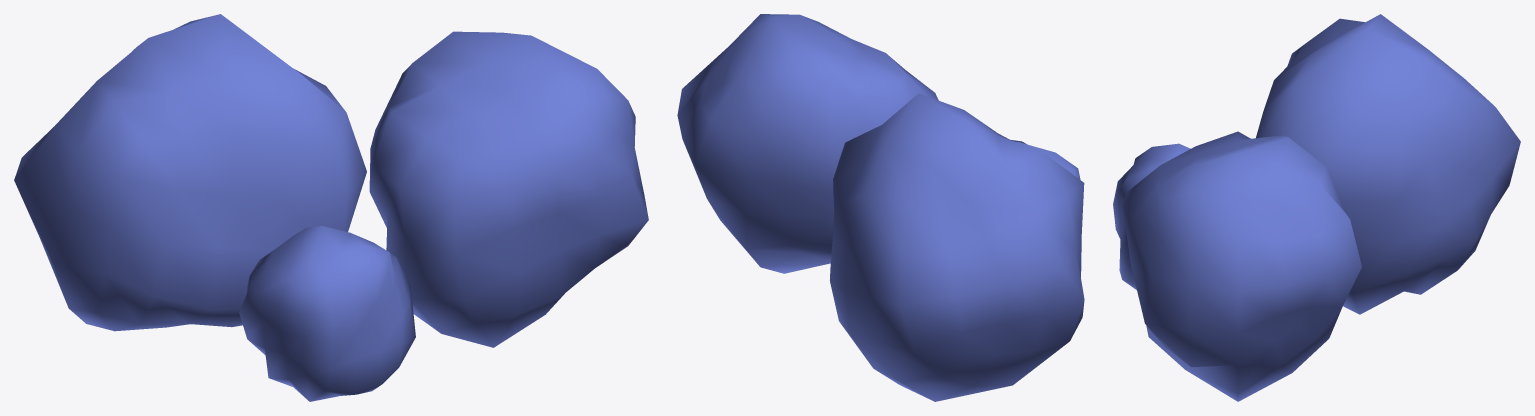
File: Rocks.FBX
3 views of the same model, side by side, from view 1: azimuth 30°, elevation 25°; view 2: azimuth 150°, elevation 25°; view 3: azimuth 270°, elevation 25° (orthographic). The views are drawn at different scales.
Visible parts, largest first — view 1: LowPoly_Rock002, LowPoly_Rock001, LowPoly_Rock; view 2: LowPoly_Rock002, LowPoly_Rock001, LowPoly_Rock; view 3: LowPoly_Rock001, LowPoly_Rock002, LowPoly_Rock.
Part boxes in pixels (x1,y1,x2,y2): LowPoly_Rock002: (14, 14, 366, 331); LowPoly_Rock001: (369, 31, 648, 347); LowPoly_Rock: (239, 226, 415, 401); LowPoly_Rock002: (830, 93, 1084, 401); LowPoly_Rock001: (677, 14, 938, 273); LowPoly_Rock: (1011, 140, 1080, 179); LowPoly_Rock001: (1122, 131, 1361, 401); LowPoly_Rock002: (1256, 14, 1520, 314); LowPoly_Rock: (1113, 143, 1190, 289).
Bounding box in the file's own units: 205 × 117 × 157.
